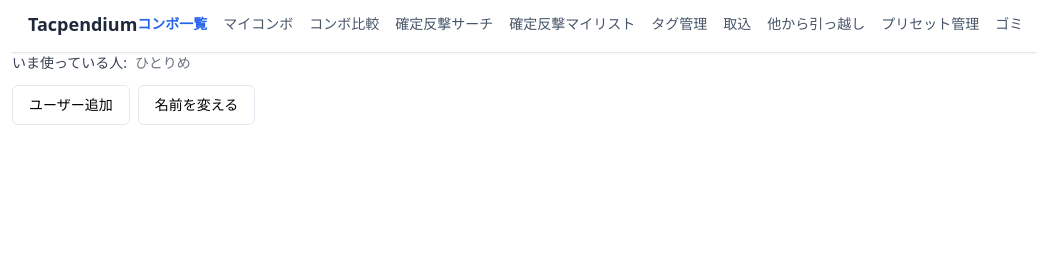
Test case: M22-08 利用者の改名 › 重複名(409)は「すでに使われています」と出る
Step 1. Click the button with test id "settings-user-rename" → click(196, 105), box [138,85,255,125]
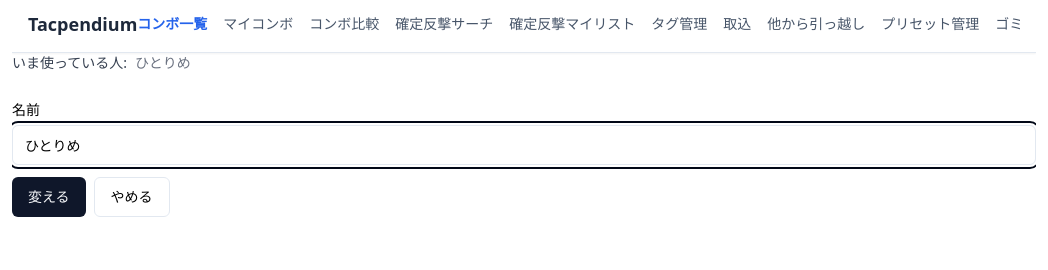
Step 2. Replace the text in the field with test id "settings-user-rename-name" with "ふたりめ" → (524, 145), box [12,125,1036,165]
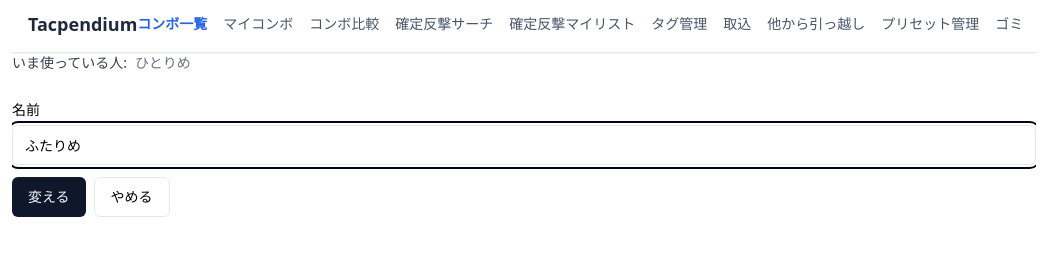
Step 3. Click the button with test id "settings-user-rename-submit" → click(49, 197), box [12,177,86,217]
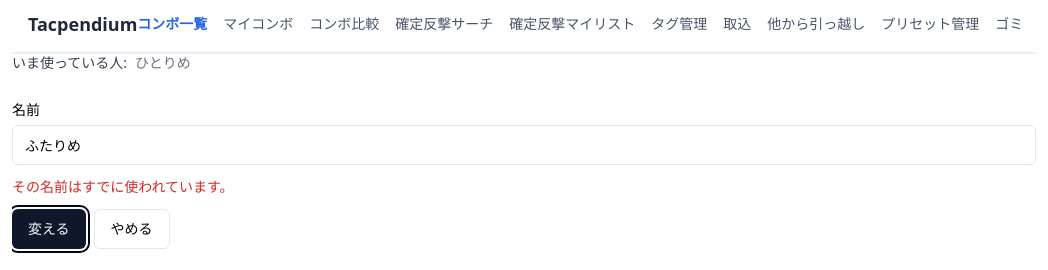
Check: the message with test id "settings-user-rename-error" shows "すでに使われています", box [12,177,234,196]
